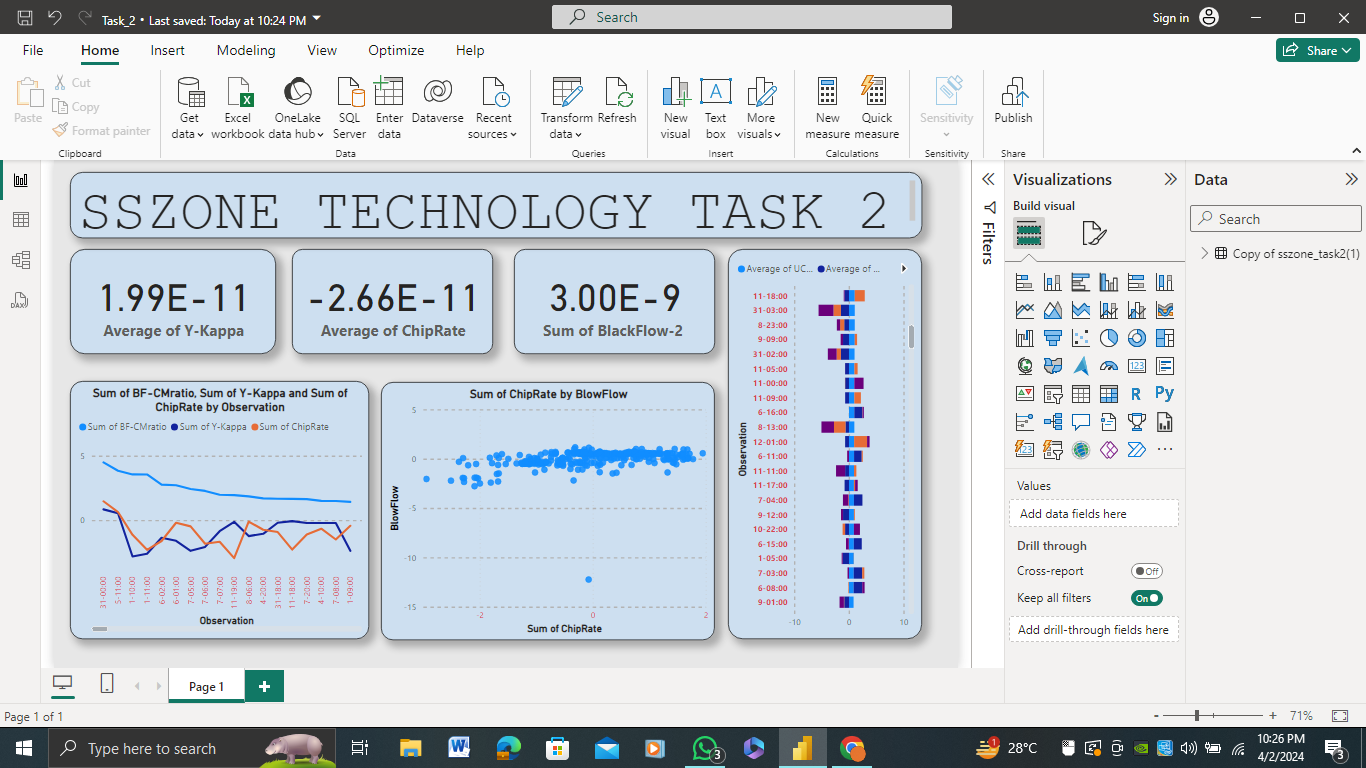

What the dashboard file says about the page in this screenshot:
{"tool":"powerbi","page":{"name":"Page 1","canvas":[1280,720],"ordinal":0},"visuals":[{"type":"card","fields":{"Values":["Copy of sszone_task2(1).Y-Kappa"]},"box":[22.7,126.1,292,148.8],"z":0},{"type":"card","fields":{"Values":["Copy of sszone_task2(1).ChipRate"]},"box":[337.3,126.1,284.9,148.8],"z":1000},{"type":"card","fields":{"Values":["Copy of sszone_task2(1).BlackFlow-2 "]},"box":[652,126.1,284.9,148.8],"z":2000},{"type":"lineChart","fields":{"Y":["Copy of sszone_task2(1).BF-CMratio","Copy of sszone_task2(1).Y-Kappa","Copy of sszone_task2(1).ChipRate"],"Category":["Copy of sszone_task2(1).Observation"]},"box":[22.7,313.2,423.8,365.7],"z":3000},{"type":"scatterChart","fields":{"X":["Copy of sszone_task2(1).ChipRate"],"Y":["Copy of sszone_task2(1).BlowFlow"]},"box":[463.5,314.6,473.4,365.7],"z":4000},{"type":"textbox","box":[22.7,17,1207.6,93.5],"z":5000},{"type":"barChart","fields":{"Y":["Copy of sszone_task2(1).UCZAA","Copy of sszone_task2(1).AA-Wood-4  ","Copy of sszone_task2(1).AAWhiteSt-4 ","Copy of sszone_task2(1).SulphidityL-4 "],"Category":["Copy of sszone_task2(1).Observation"]},"box":[955.3,126.1,275,552.8],"z":6000}]}

Visuals, with their boxes on the page's 1280x720 design canvas (x1, y1, x2, y2). These are canvas units, not pixel positions in the 1366x768 screenshot, which may show the page scaled, cropped or inside an application window:
card - Copy of sszone_task2(1).Y-Kappa: 23 126 315 275
card - Copy of sszone_task2(1).ChipRate: 337 126 622 275
card - Copy of sszone_task2(1).BlackFlow-2 : 652 126 937 275
lineChart - Copy of sszone_task2(1).BF-CMratio x Copy of sszone_task2(1).Y-Kappa: 23 313 446 679
scatterChart - Copy of sszone_task2(1).ChipRate x Copy of sszone_task2(1).BlowFlow: 464 315 937 680
textbox: 23 17 1230 110
barChart - Copy of sszone_task2(1).UCZAA x Copy of sszone_task2(1).AA-Wood-4  : 955 126 1230 679
